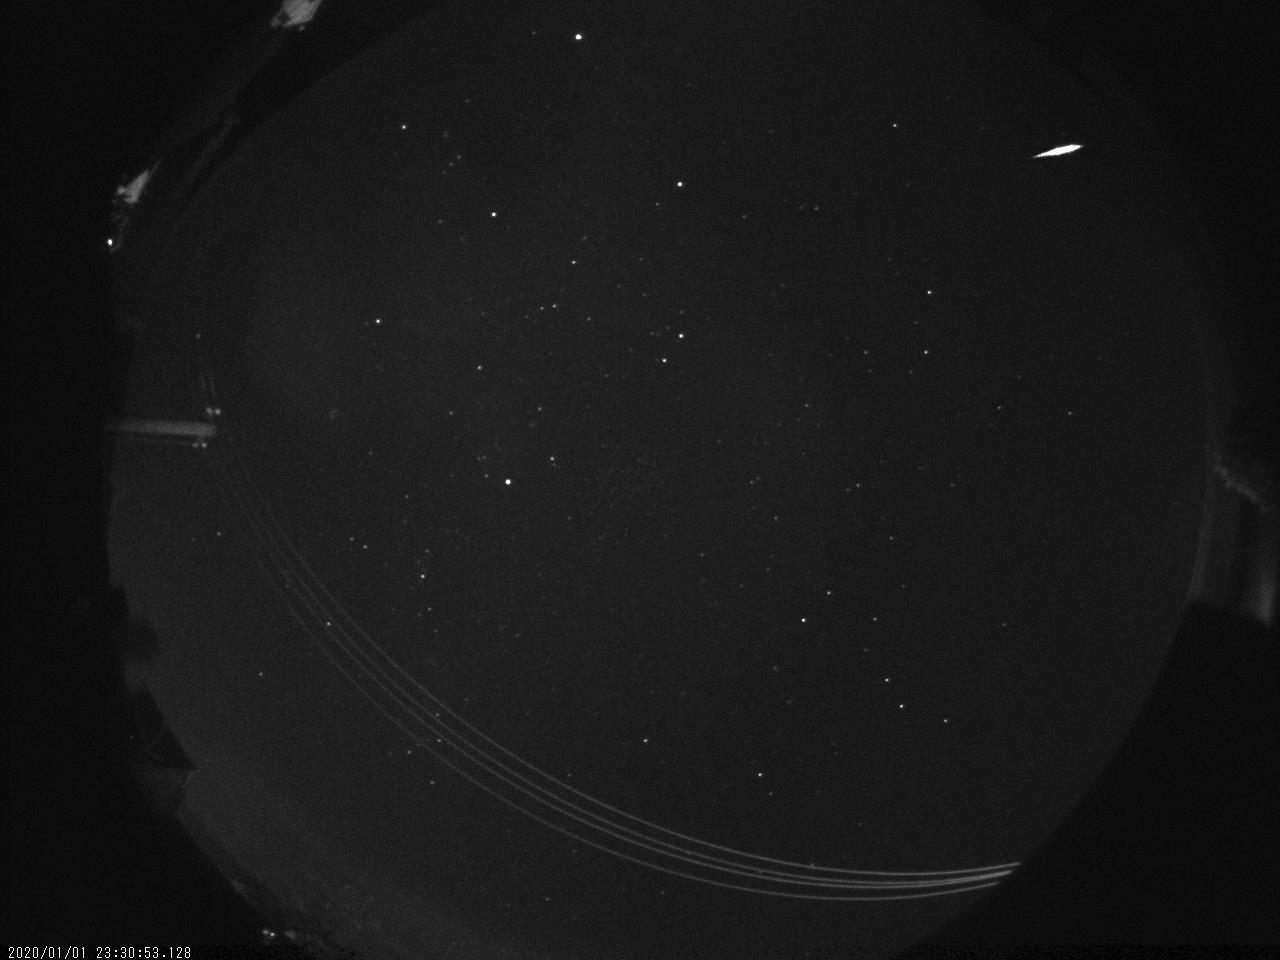Meteor: (1028, 140, 1084, 160)
